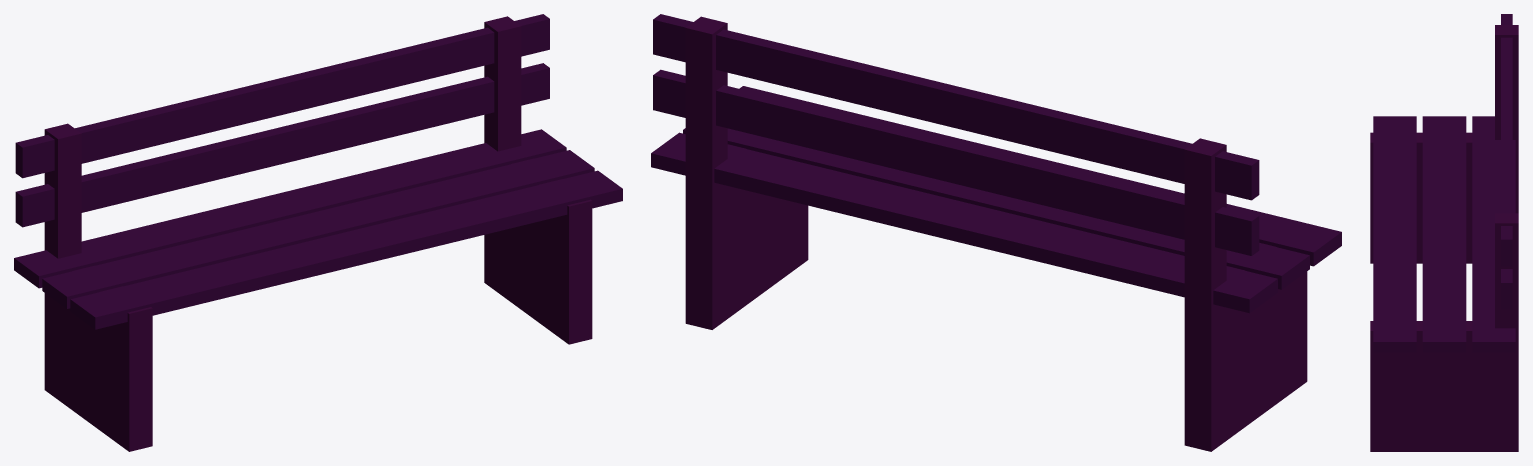
Rendered from bench.glb.
3 views of the same model, side by side, from view 1: azimuth 30°, elevation 25°; view 2: azimuth 150°, elevation 25°; view 3: azimuth 270°, elevation 25° (orthographic). The views are drawn at different scales.
Visible parts, largest first — view 1: bench; view 2: bench; view 3: bench.
Part boxes in pixels (bbox=[...]): bench: bbox=[14, 14, 622, 451]; bench: bbox=[651, 14, 1341, 451]; bench: bbox=[1370, 14, 1518, 451].
Size of the model in its own units: 1.8 by 0.85 by 0.4999.
